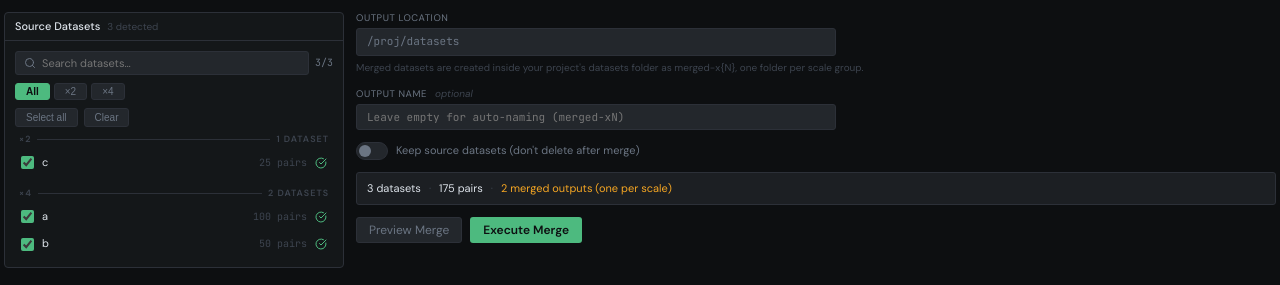
Test case: ScreenMergeDatasets › can clear and re-select all datasets
Expected: the text "a" is shown, [42,209,48,223]
Click the button "Clear" at (107, 118), box [84,108,130,127]
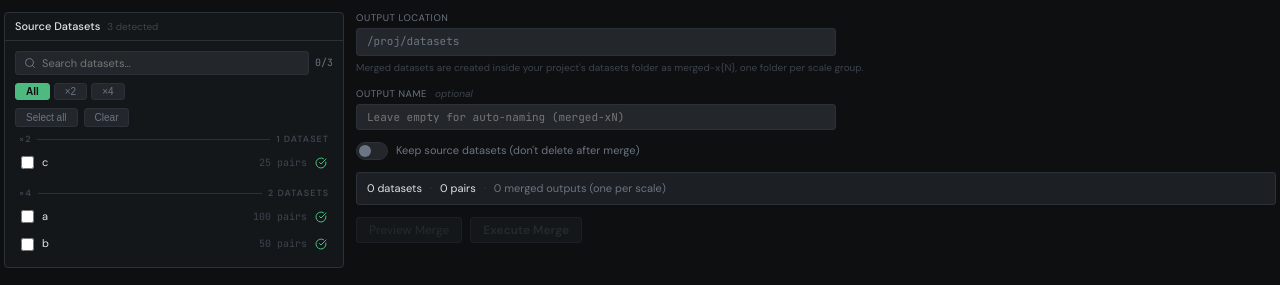
Expected: the button "Execute Merge" is disabled, [470,217,582,243]
Expected: the button "Preview Merge" is disabled, [356,217,462,243]
Click the button "Select all" at (46, 118), box [15,108,78,127]
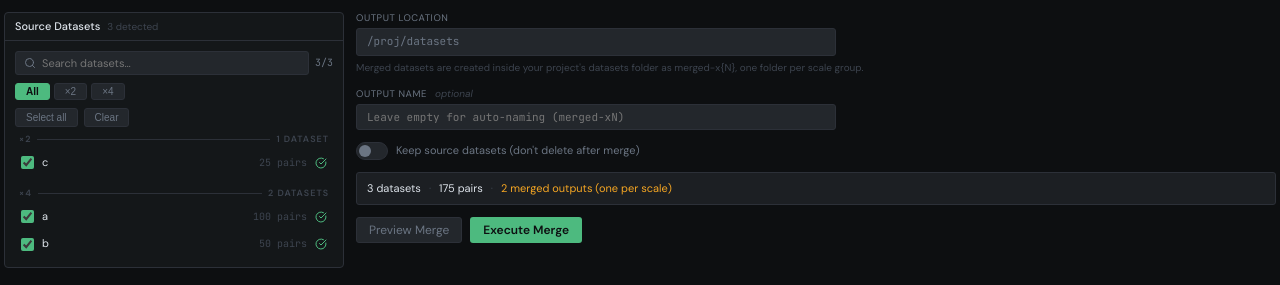
Expected: the button "Execute Merge" is enabled, [470,217,582,243]
